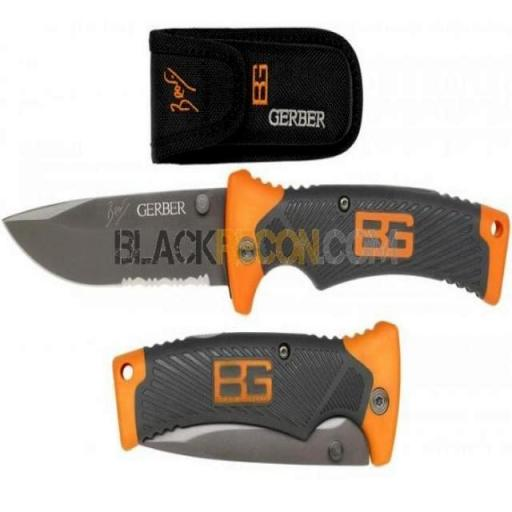knife: (2, 169, 510, 314)
